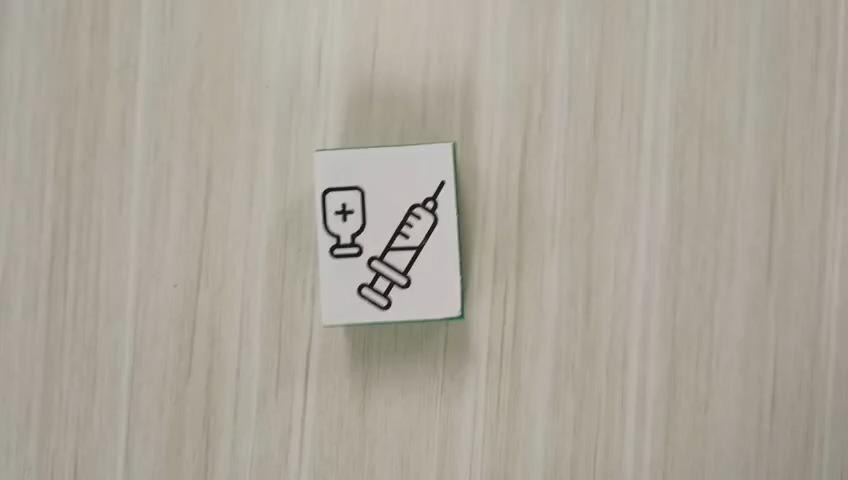antiseptic cream: (312, 140, 463, 327)
